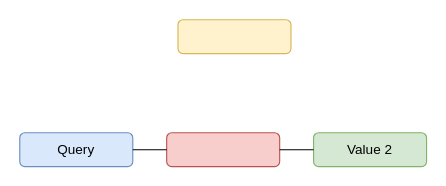
This 446x186 diagram has some shape labels left out. Each missing label, with the centre of its shape:
Key 2: the point at 223,149
Time: the point at 234,36
